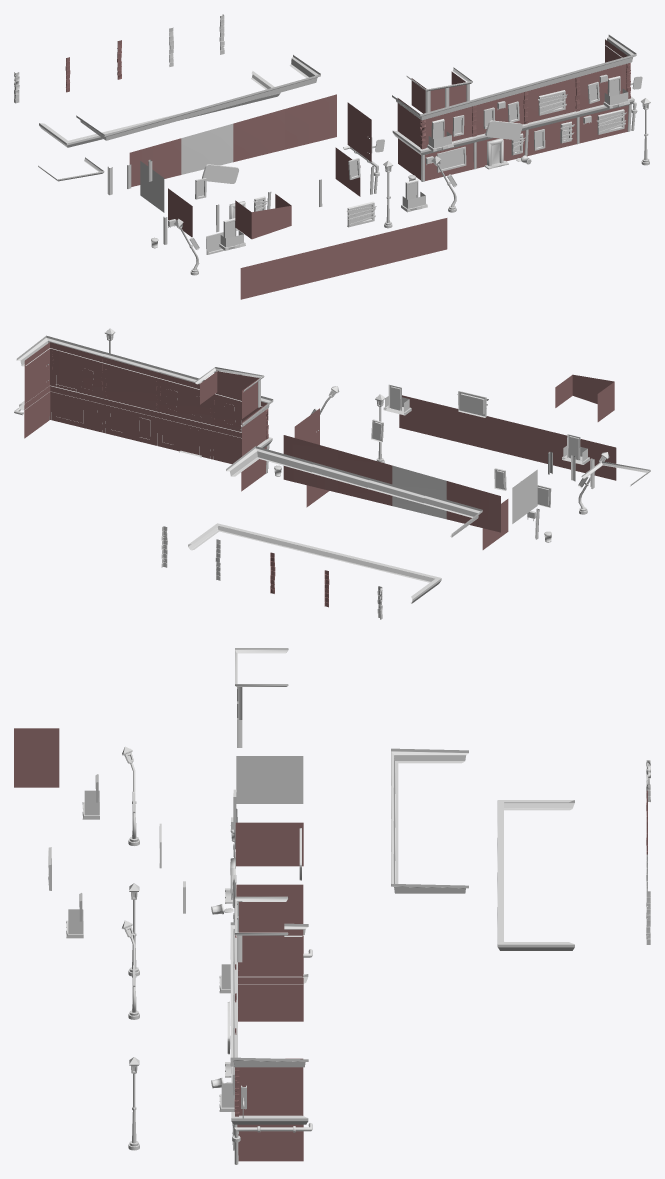
Rendered from MotelL_SCENE_FINAL_2.fbx.
The picture shows the model from 3 angles, top to bottom: view 1: azimuth 30°, elevation 25°; view 2: azimuth 150°, elevation 25°; view 3: azimuth 270°, elevation 25°; orthographic projection. The views are drawn at different scales.
Visible parts, largest first — view 1: scene_motel_fULL, scene_motel_Props_Wall_low.017, scene_motel_Props_Wall_low.016, scene_motel_Props_Overlap_2_mid.001, scene_motel_Props_Wall_low.015, scene_motel_Props_Wall_low.021, scene_motel_Props_Wall_low.018, scene_motel_Props_Wall_low.020, scene_motel_Props_Wall_low.019, scene_motel_Props_Wall_low.014, scene_motel_Props_Wall_low.022, scene_motel_Props_motel_overlap_mid.001 (+6 smaller); view 2: scene_motel_fULL, scene_motel_Props_Overlap_2_mid.001, scene_motel_Props_motel_overlap_mid.001, scene_motel_Props_Wall_low.017, scene_motel_Props_Wall_low.020, scene_motel_Props_Wall_low.019, scene_motel_Props_Wall_low.016, scene_motel_Props_Wall_low.014, scene_motel_Props_Wall_low.018, scene_motel_Props_Wall_low.015, scene_motel_Props_Wall_low.022, scene_motel_Props_Wall_low.021 (+4 smaller); view 3: scene_motel_fULL, scene_motel_Props_Wall_low.025, scene_motel_Props_Wall_low.013, scene_motel_Props_Overlap_2_mid.001, scene_motel_Props_Wall_low.022, scene_motel_Props_motel_overlap_mid.001, scene_motel_Props_Wall_low.023.
Boxes of the visible parts, bbox=[...] form: scene_motel_fULL: bbox=[392, 35, 650, 212]; scene_motel_Props_Wall_low.017: bbox=[285, 94, 336, 149]; scene_motel_Props_Wall_low.016: bbox=[233, 109, 284, 162]; scene_motel_Props_Overlap_2_mid.001: bbox=[76, 55, 320, 140]; scene_motel_Props_Wall_low.015: bbox=[181, 123, 233, 174]; scene_motel_Props_Wall_low.021: bbox=[240, 255, 292, 299]; scene_motel_Props_Wall_low.018: bbox=[395, 218, 447, 261]; scene_motel_Props_Wall_low.020: bbox=[292, 243, 343, 286]; scene_motel_Props_Wall_low.019: bbox=[344, 230, 395, 274]; scene_motel_Props_Wall_low.014: bbox=[129, 138, 181, 186]; scene_motel_Props_Wall_low.022: bbox=[235, 194, 291, 239]; scene_motel_Props_motel_overlap_mid.001: bbox=[39, 71, 280, 147]; scene_motel_fULL: bbox=[14, 328, 339, 491]; scene_motel_Props_Overlap_2_mid.001: bbox=[226, 446, 482, 537]; scene_motel_Props_motel_overlap_mid.001: bbox=[188, 523, 441, 603]; scene_motel_Props_Wall_low.017: bbox=[283, 435, 337, 492]; scene_motel_Props_Wall_low.020: bbox=[508, 421, 562, 467]; scene_motel_Props_Wall_low.019: bbox=[453, 408, 507, 454]; scene_motel_Props_Wall_low.016: bbox=[338, 450, 392, 505]; scene_motel_Props_Wall_low.014: bbox=[446, 481, 500, 532]; scene_motel_Props_Wall_low.018: bbox=[399, 395, 453, 440]; scene_motel_Props_Wall_low.015: bbox=[392, 465, 446, 519]; scene_motel_Props_Wall_low.022: bbox=[555, 374, 614, 421]; scene_motel_Props_Wall_low.021: bbox=[562, 434, 616, 480]; scene_motel_fULL: bbox=[122, 896, 312, 1164]; scene_motel_Props_Wall_low.025: bbox=[236, 756, 303, 803]; scene_motel_Props_Wall_low.013: bbox=[235, 822, 303, 866]; scene_motel_Props_Overlap_2_mid.001: bbox=[391, 748, 468, 893]; scene_motel_Props_Wall_low.022: bbox=[14, 728, 59, 787]; scene_motel_Props_motel_overlap_mid.001: bbox=[497, 800, 574, 950]; scene_motel_Props_Wall_low.023: bbox=[236, 884, 303, 923].
Bounding box in the file's own units: 5722 × 858 × 3882.
